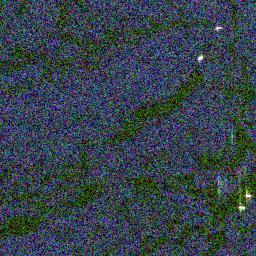Ship: (193, 52, 208, 63), (241, 190, 253, 201), (214, 22, 223, 32), (239, 203, 246, 213)
